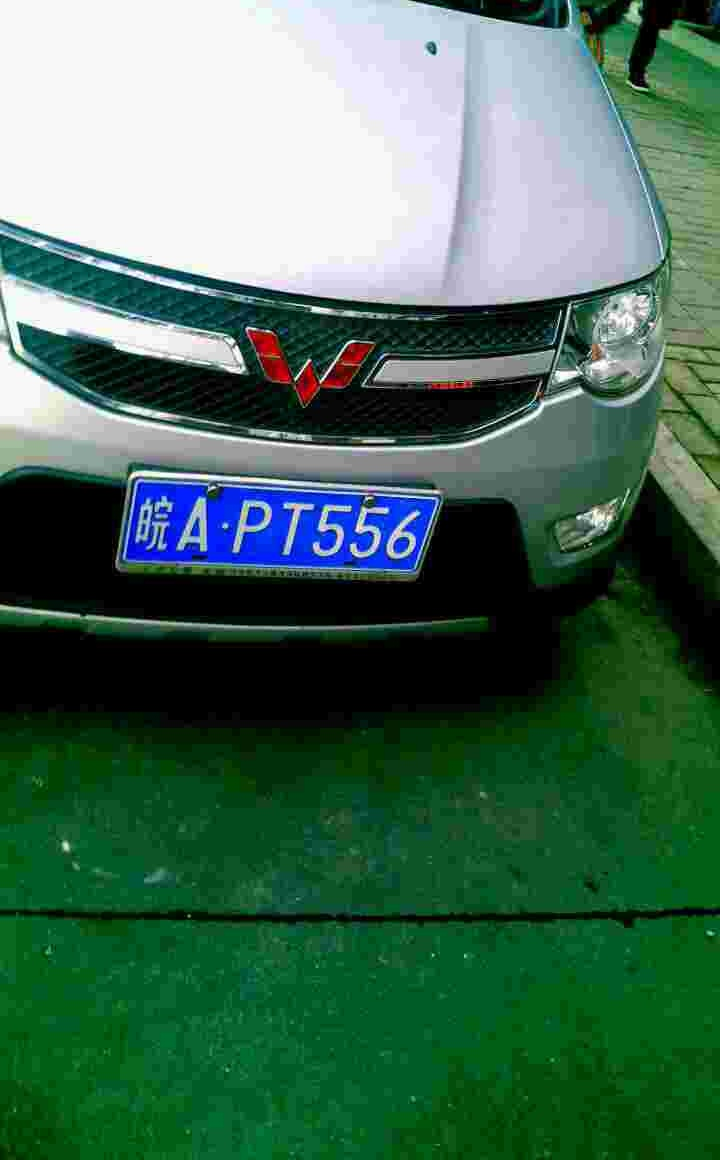car: (122, 475, 435, 587)
